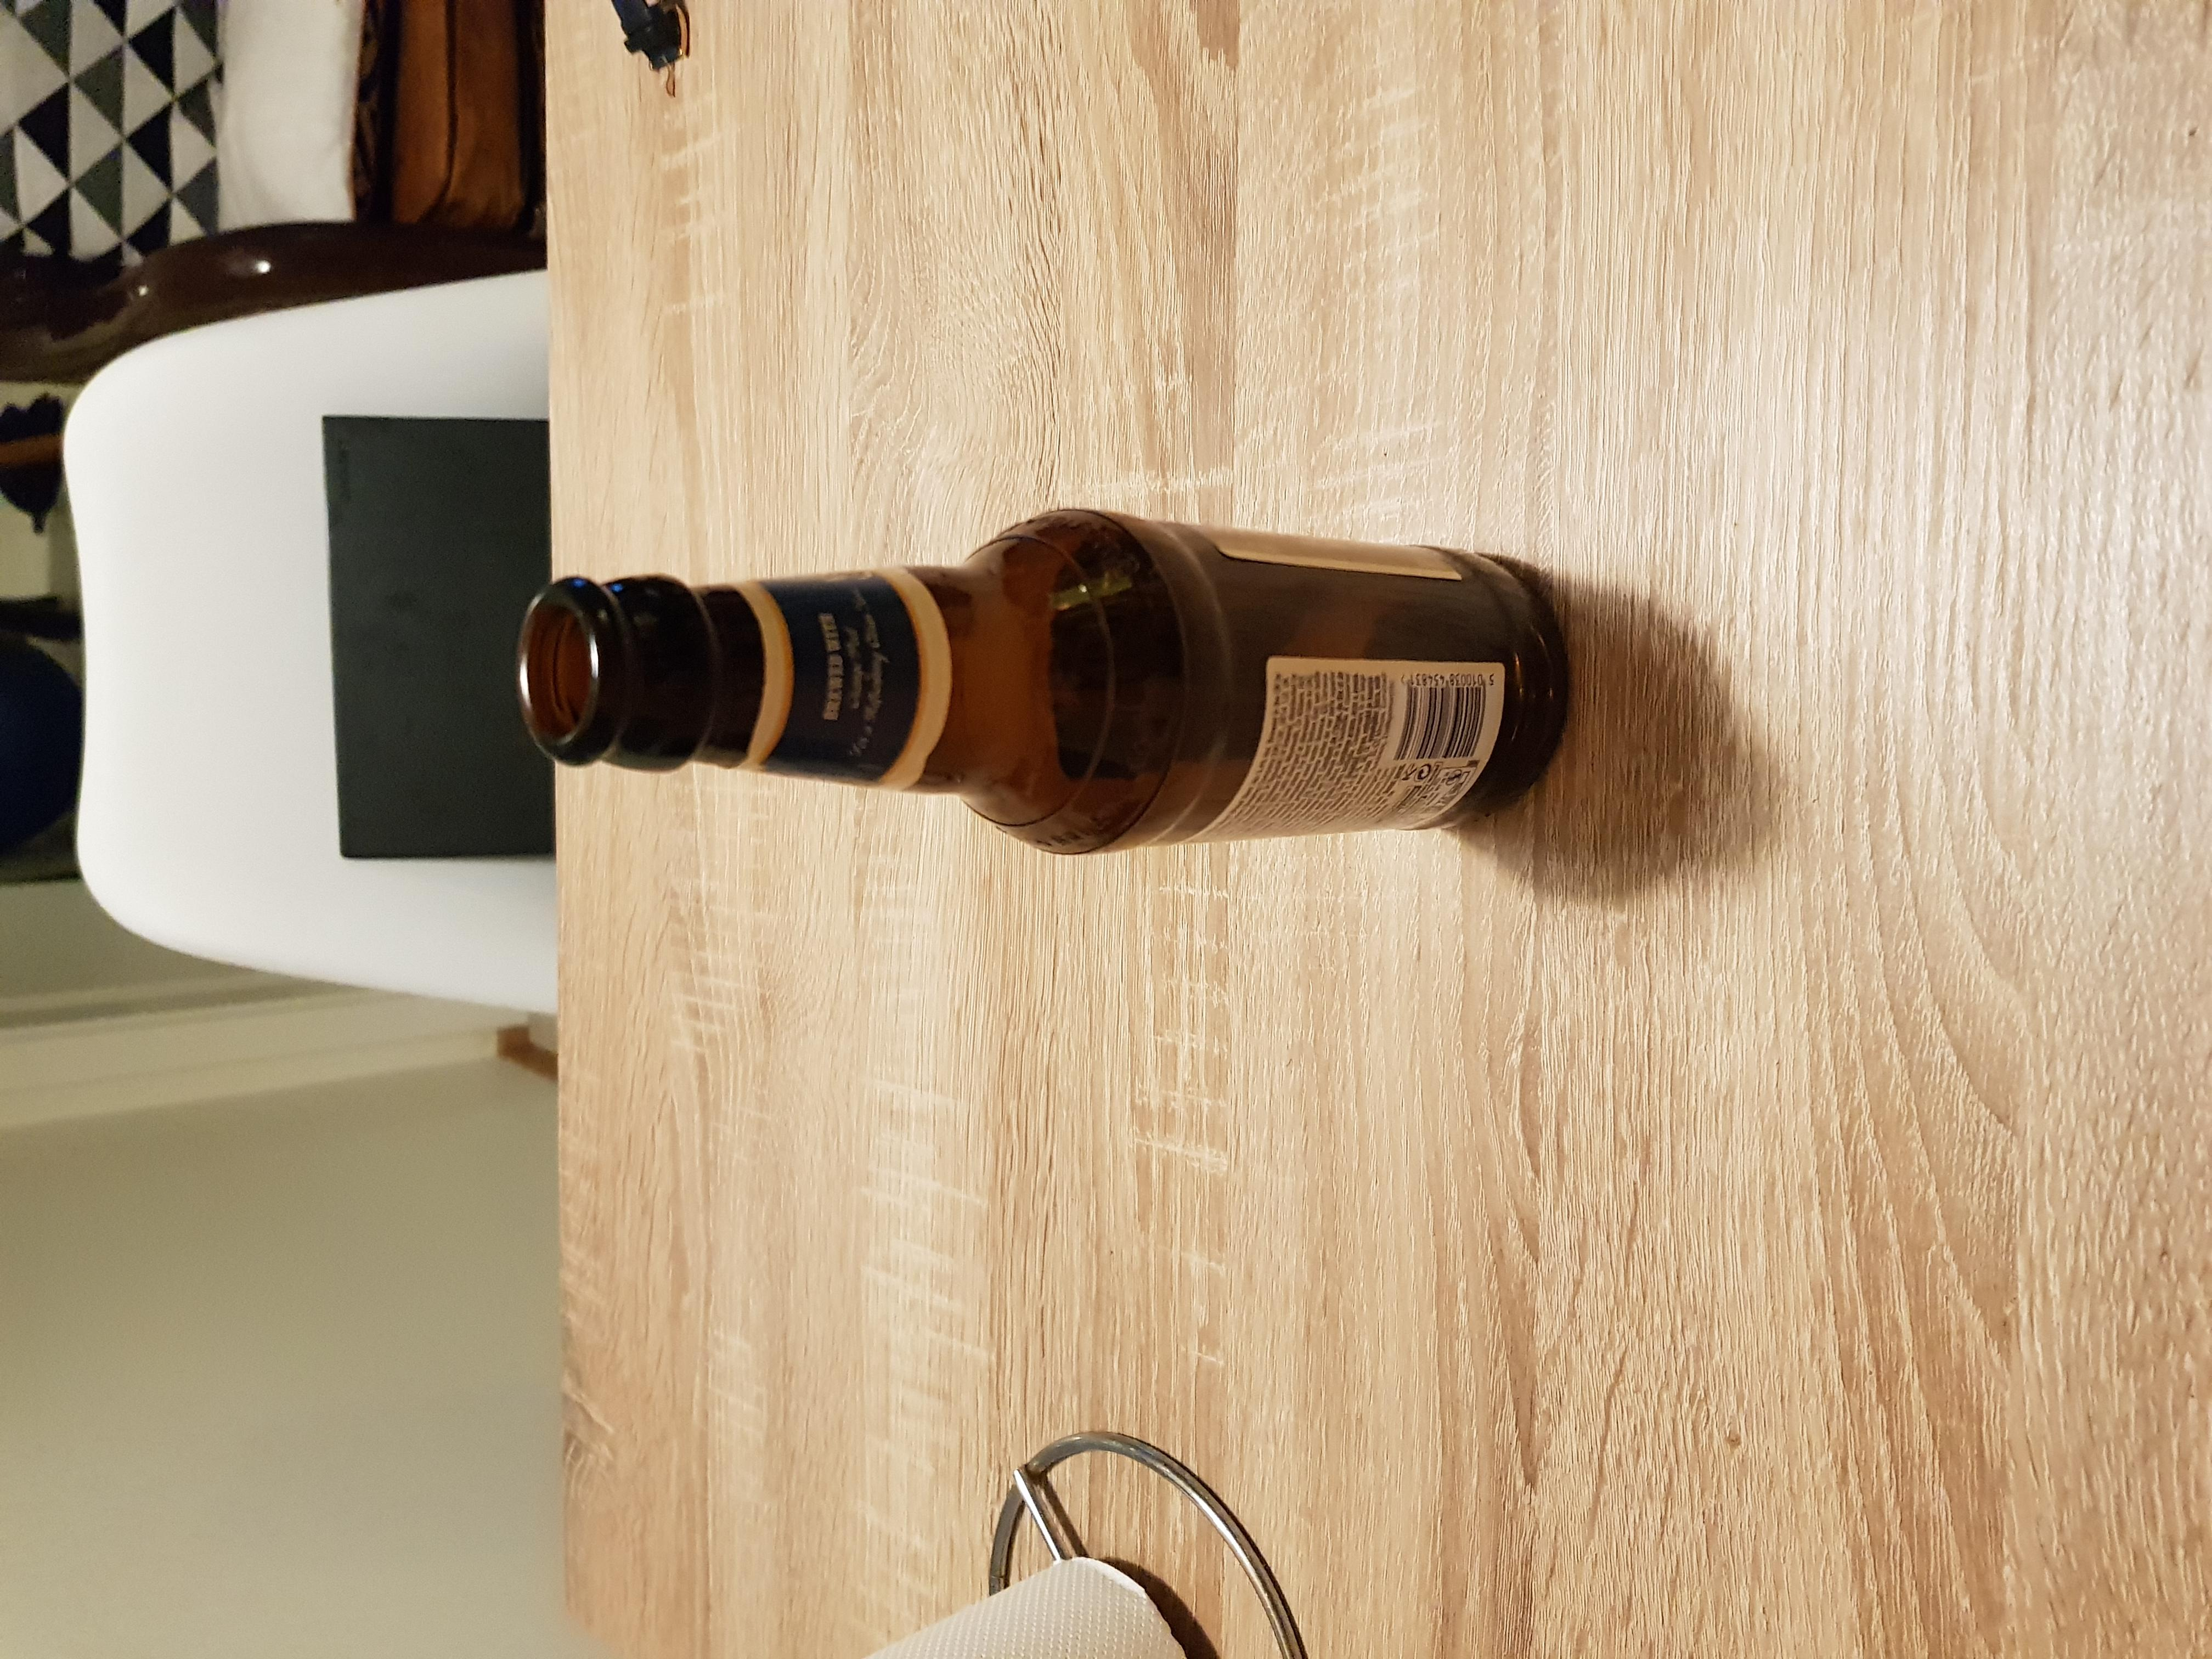Bottle: (510, 504, 1562, 854)
